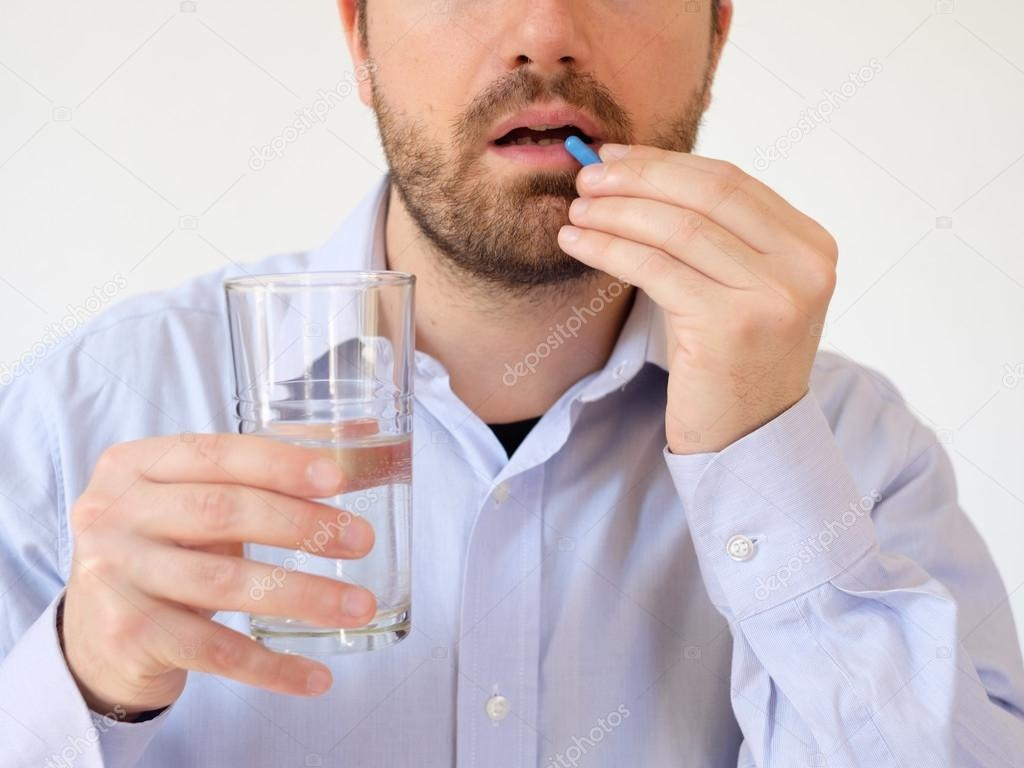pills: (562, 132, 613, 172)
